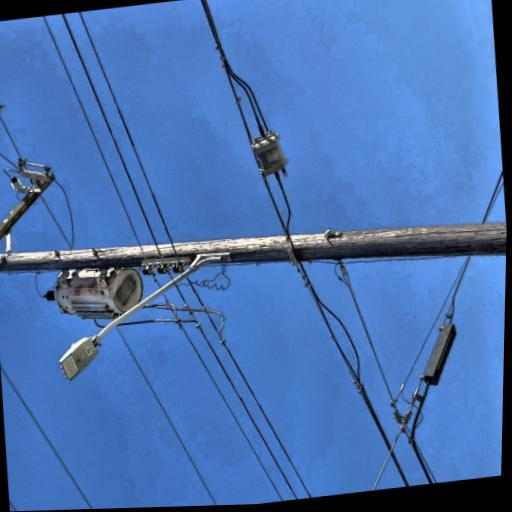insulator: (102, 64, 115, 81), (48, 14, 66, 25)
pole: (37, 82, 177, 511)
street light: (8, 188, 133, 401)
transformer: (61, 189, 123, 295)
